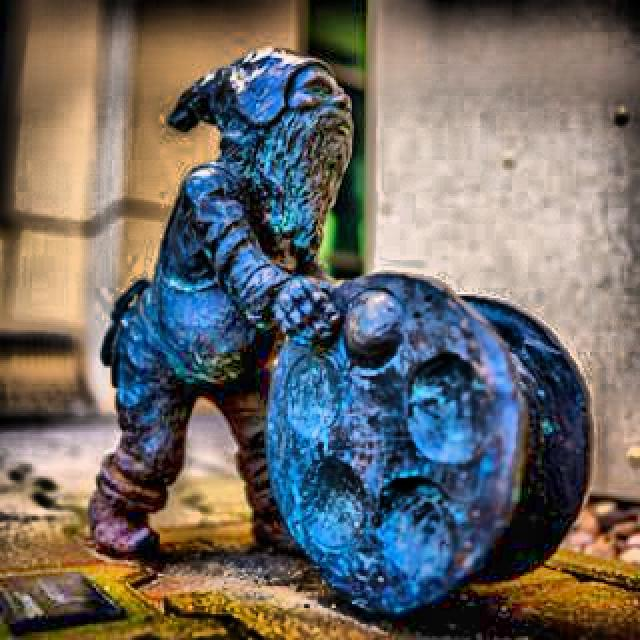Lappek: (86, 48, 594, 620)
